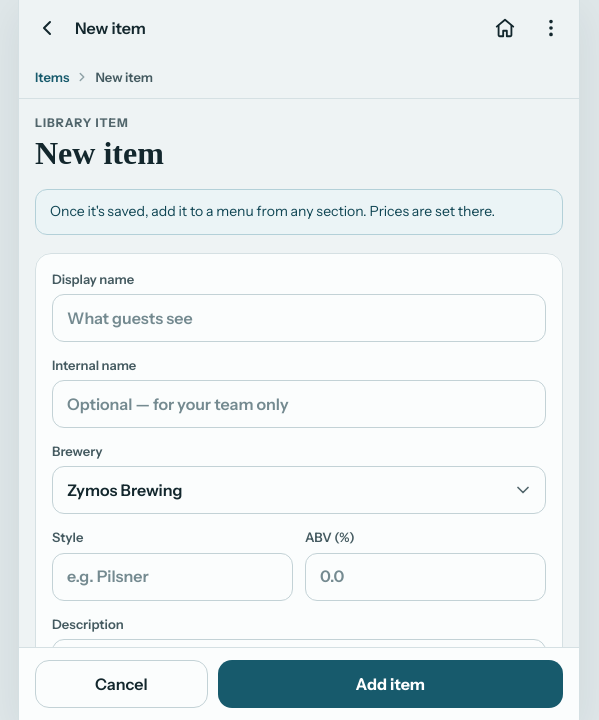
Scenario: LibraryItemPage › adds an item to the library, starting on the first brewery
Expected: the text "add it to a menu from any section" is shown, x1=50 y1=202 x2=495 y2=220
Expected: the dropdown labelled "Brewery" shows "Zymos Brewing", x1=52 y1=466 x2=546 y2=514
Type " Cold IPA " into the field labelled "Display name" at [299, 318], box x1=52 y1=294 x2=546 y2=342
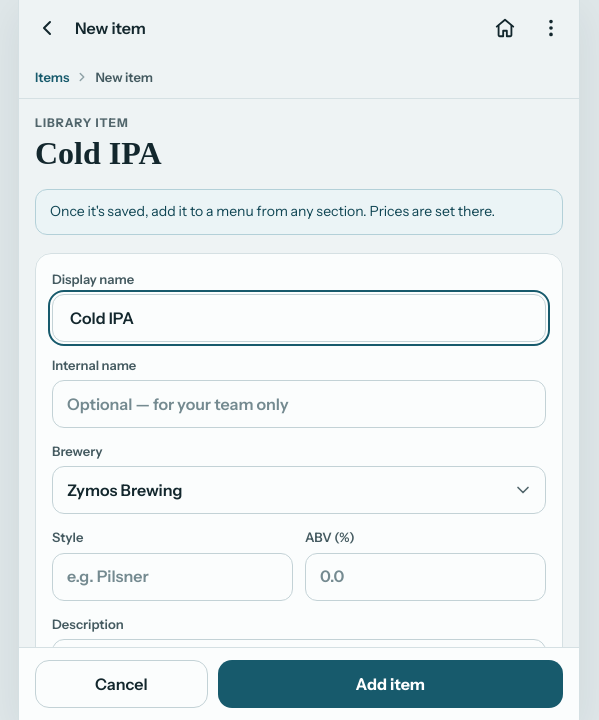
Type "IPA" into the field labelled "Style" at [172, 576], box x1=52 y1=552 x2=293 y2=600
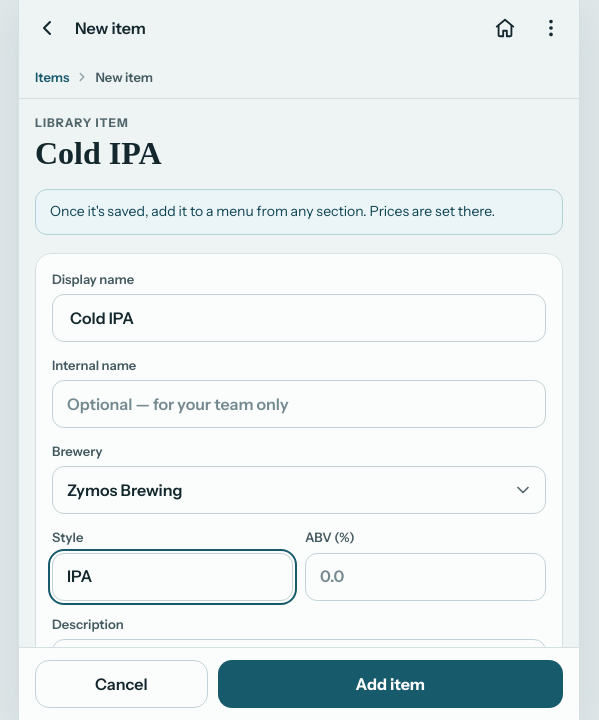
Type "6,8" into the field labelled "ABV (%)" at [426, 576], box x1=305 y1=552 x2=546 y2=600
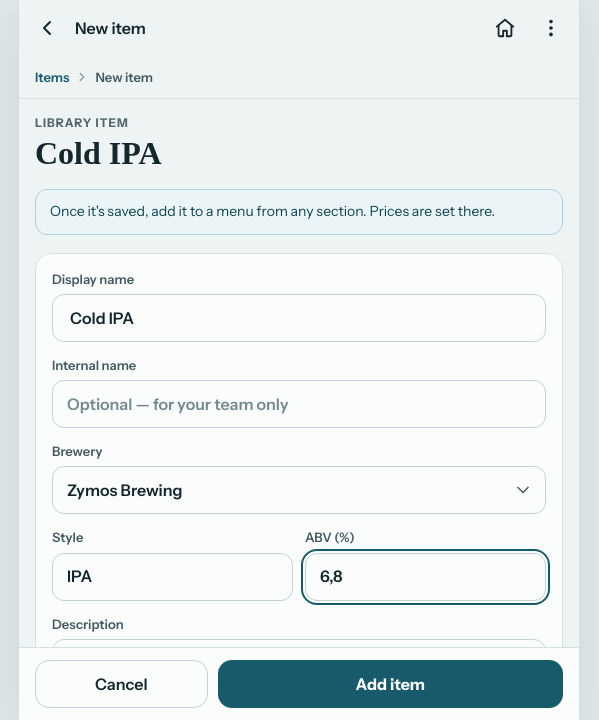
Click the button "Add item" at [390, 684], box x1=218 y1=660 x2=563 y2=708
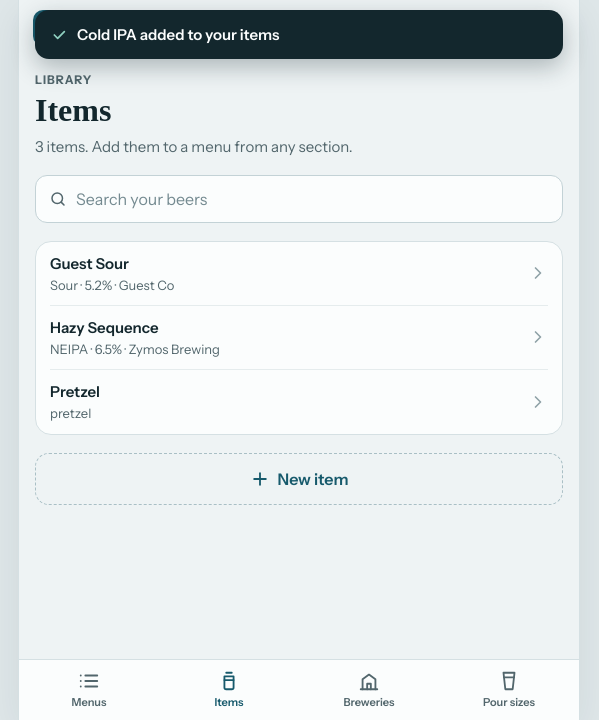
Expected: the text "Cold IPA added to your items" is shown, x1=35 y1=10 x2=563 y2=59
